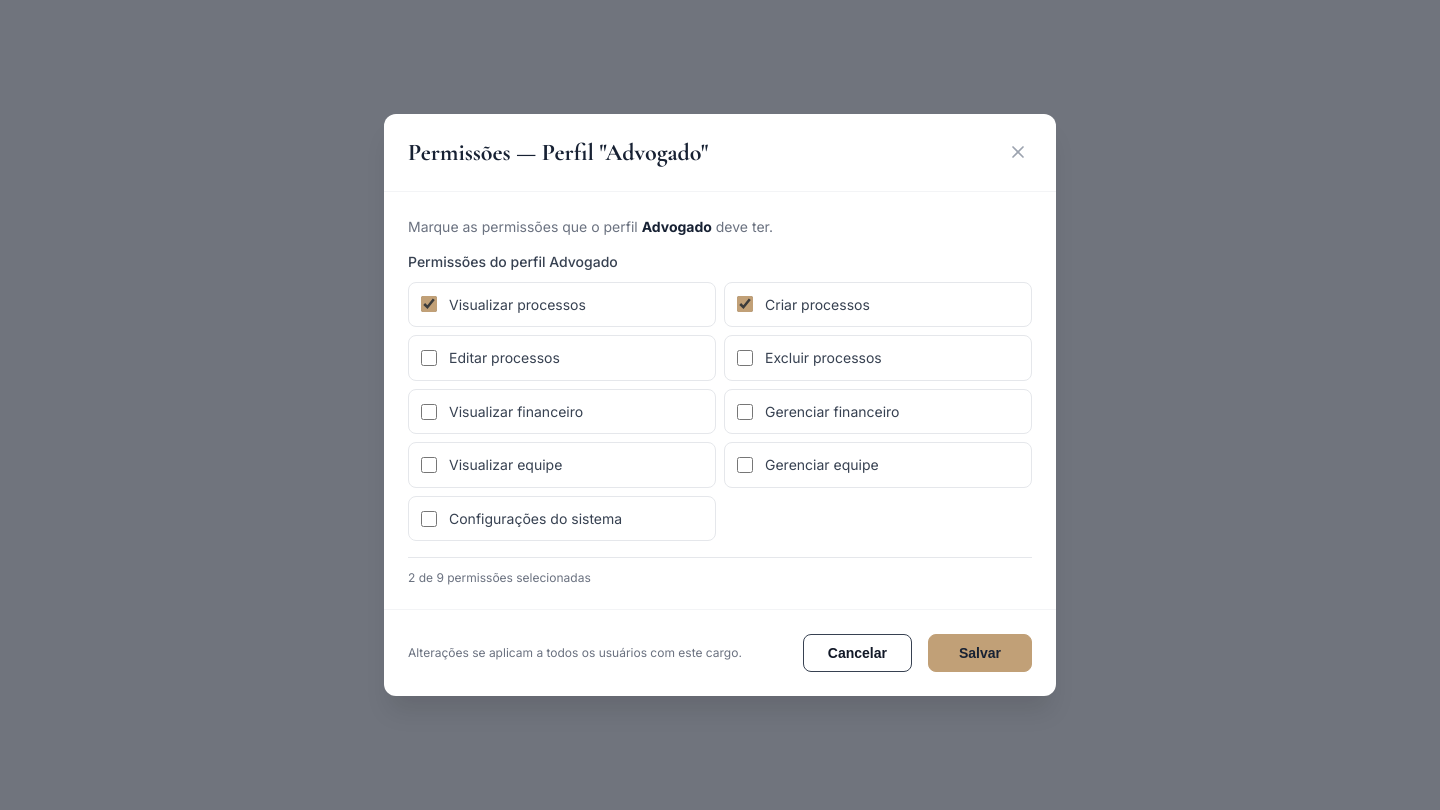
Scenario: RolePermissionsModal › exibe uma mensagem padrão para falhas sem Error
This screenshot has width=1440, height=810.
Step 1. Click the button "Salvar" → (980, 654), box [928,634,1032,672]
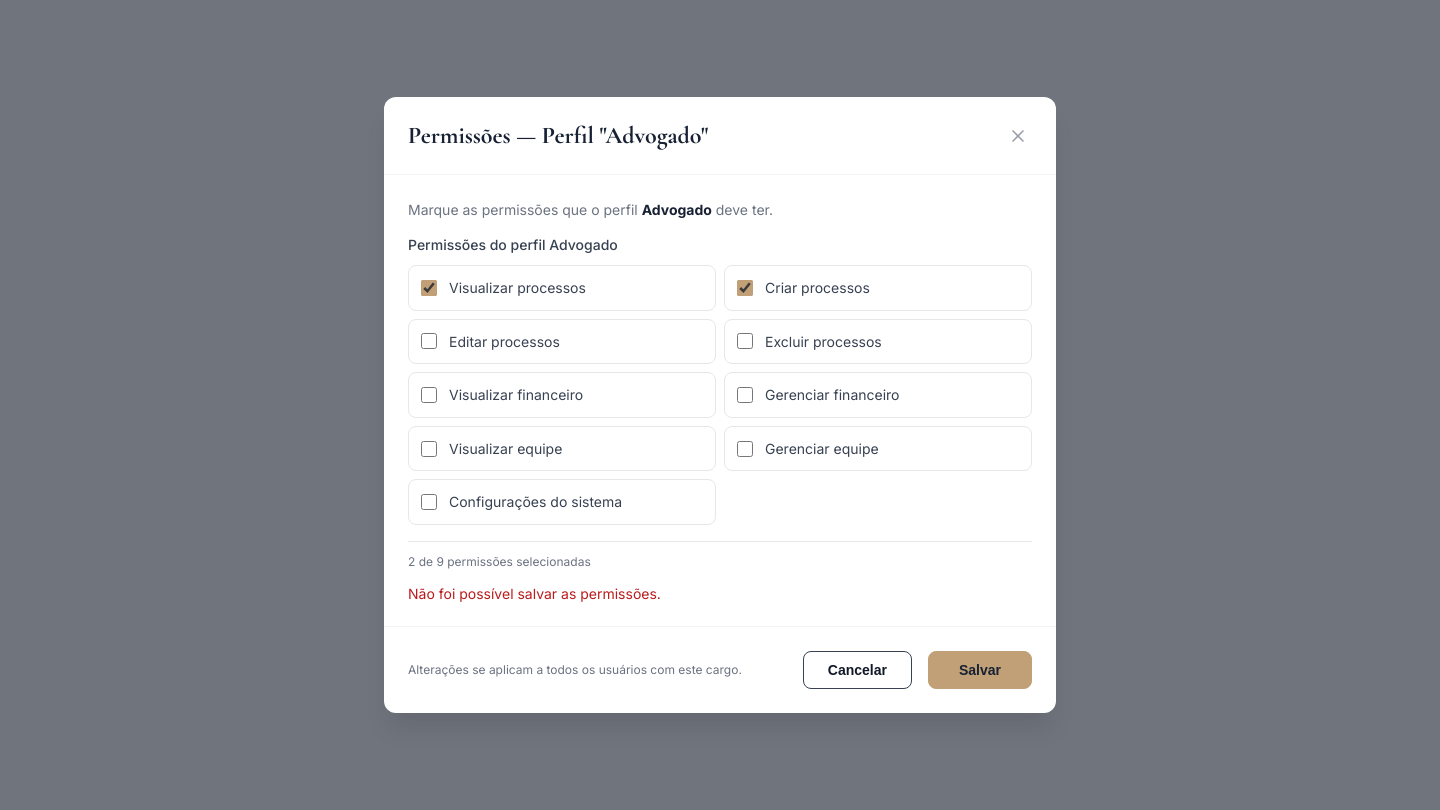
Now the message reads "Não foi possível salvar as permissões.", box [408,585,661,602]
